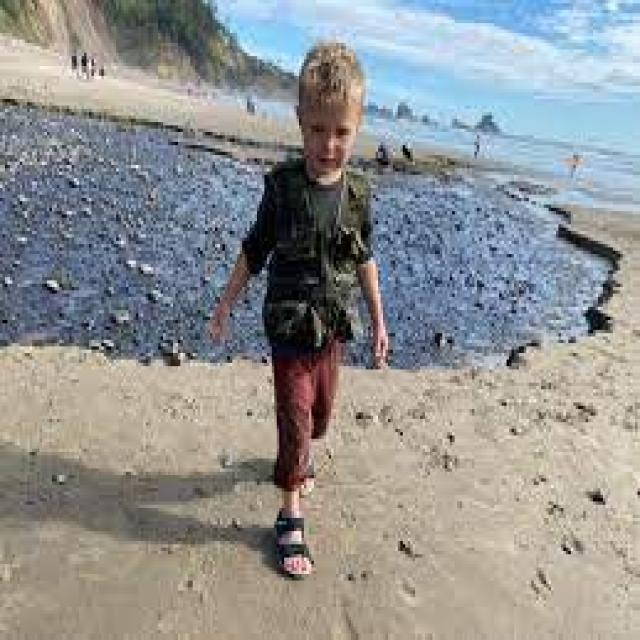Person: (210, 39, 386, 576)
